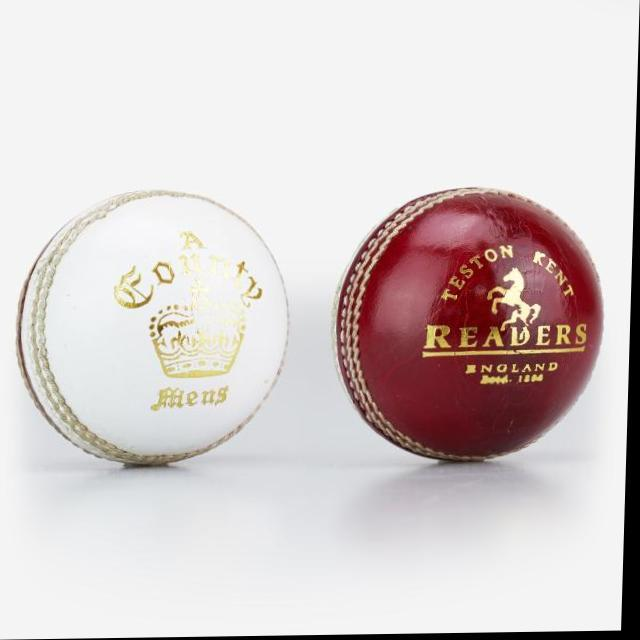cricket ball: (17, 190, 292, 466), (333, 188, 606, 463)
